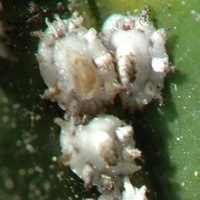insect: (37, 10, 169, 199), (37, 13, 124, 114), (55, 115, 145, 199), (101, 11, 168, 108)
